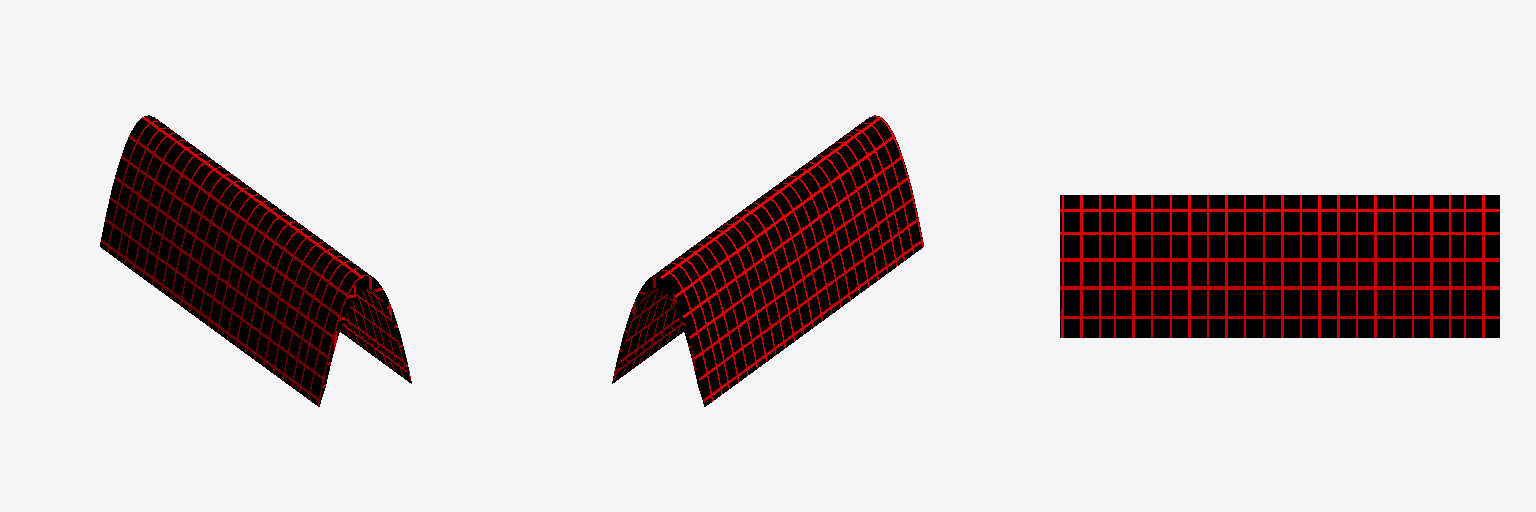
3 renders of one model, left to right at view 1: azimuth 30°, elevation 25°; view 2: azimuth 150°, elevation 25°; view 3: azimuth 270°, elevation 25°, orthographic.
Visible parts, largest first — view 1: z_20_Z_Function; view 2: z_20_Z_Function; view 3: z_20_Z_Function.
Boxes of the visible parts, box(x1,y1,x2,y2) form: z_20_Z_Function: box(100, 115, 411, 406); z_20_Z_Function: box(612, 115, 923, 406); z_20_Z_Function: box(1060, 195, 1499, 337).
Size of the model in its own units: 24.5 by 30 by 100.
Materials: 1 (1 with a texture image).